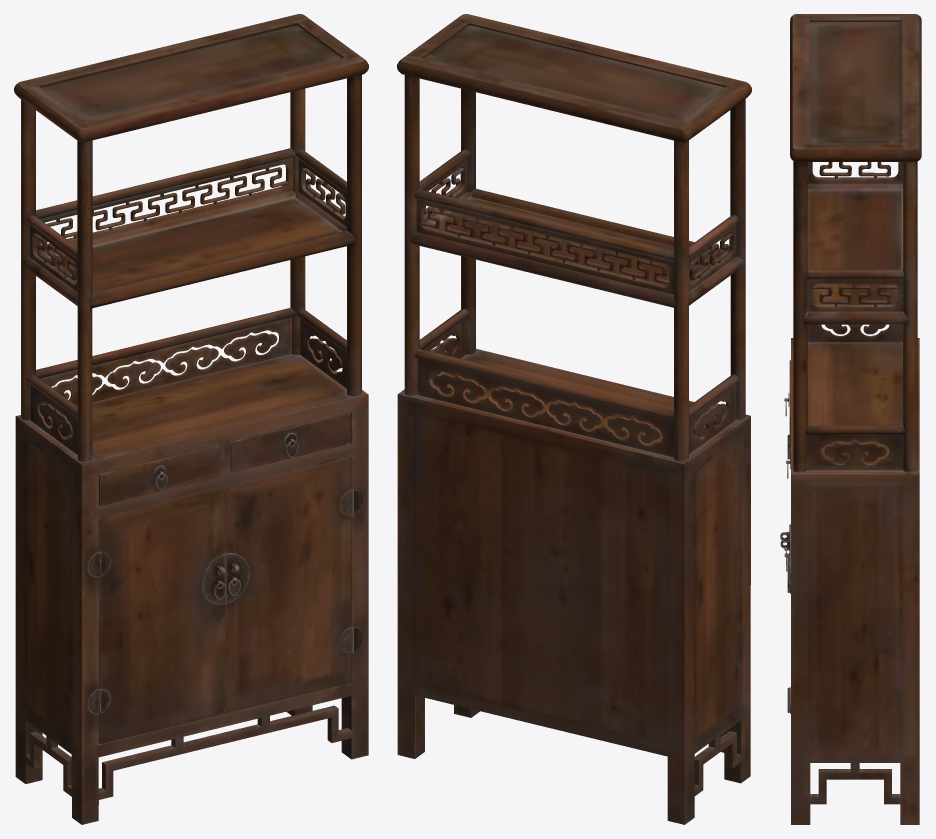
File: chinese_cabinet.glb
3 views of the same model, side by side, from view 1: azimuth 30°, elevation 25°; view 2: azimuth 150°, elevation 25°; view 3: azimuth 270°, elevation 25° (orthographic). The views are drawn at different scales.
Parts seen in each view (by area): view 1: chinese_cabinet; view 2: chinese_cabinet; view 3: chinese_cabinet.
Boxes of the visible parts, bbox=[...] form: chinese_cabinet: bbox=[14, 14, 368, 824]; chinese_cabinet: bbox=[397, 14, 751, 824]; chinese_cabinet: bbox=[780, 14, 921, 824].
Bounding box in the file's own units: 1.26 × 2.87 × 0.5452.
Materials: 1 (1 with a texture image).
